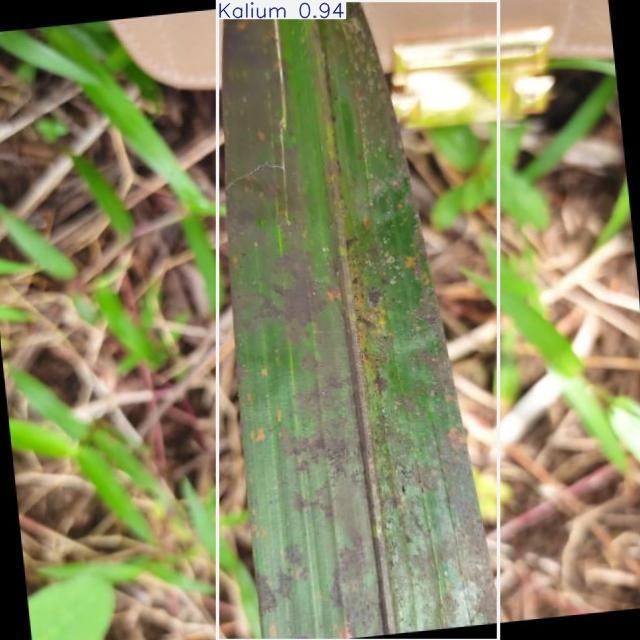Kalium: (218, 0, 498, 640)
